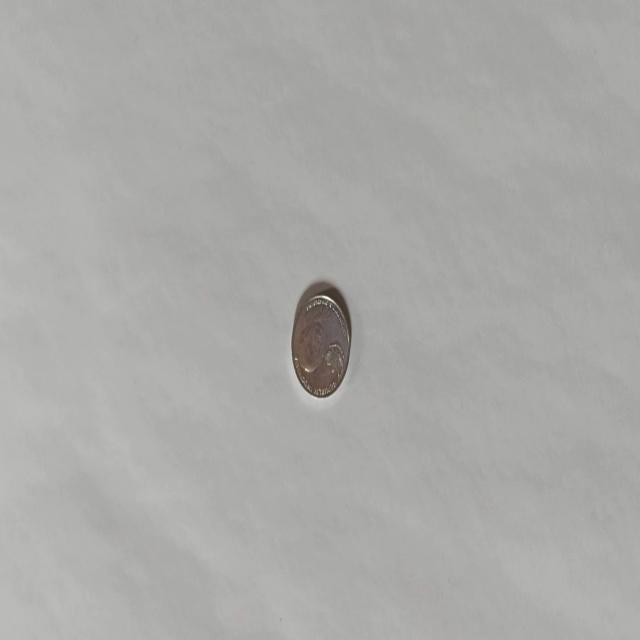lima ratus rupiah: (290, 285, 351, 399)
